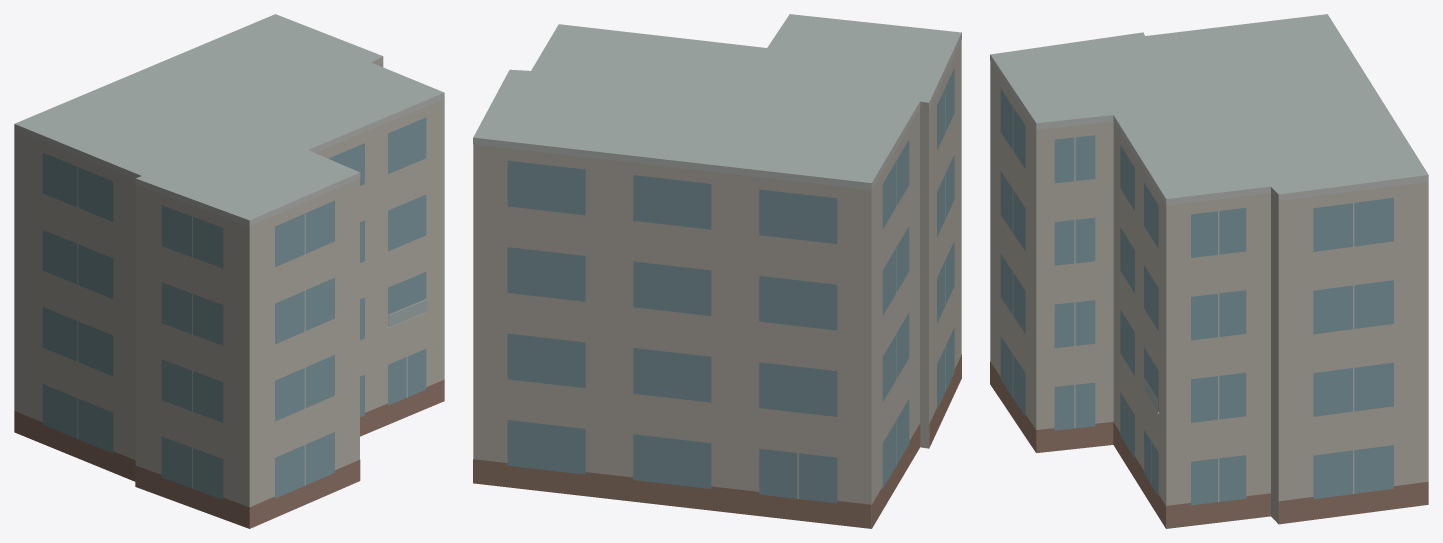
Rendered from survey-upis-32584517.glb.
The picture shows the model from 3 angles, left to right: view 1: azimuth 30°, elevation 25°; view 2: azimuth 150°, elevation 25°; view 3: azimuth 270°, elevation 25°; orthographic projection. The views are drawn at different scales.
Visible parts, largest first — view 1: survey-upis-32584517.tmp; view 2: survey-upis-32584517.tmp; view 3: survey-upis-32584517.tmp.
Part boxes in pixels (x1=…): survey-upis-32584517.tmp: x1=14, y1=14, x2=444, y2=528; survey-upis-32584517.tmp: x1=473, y1=14, x2=961, y2=528; survey-upis-32584517.tmp: x1=990, y1=14, x2=1428, y2=528.
Bounding box in the file's own units: 14.69 × 12.2 × 14.71.
